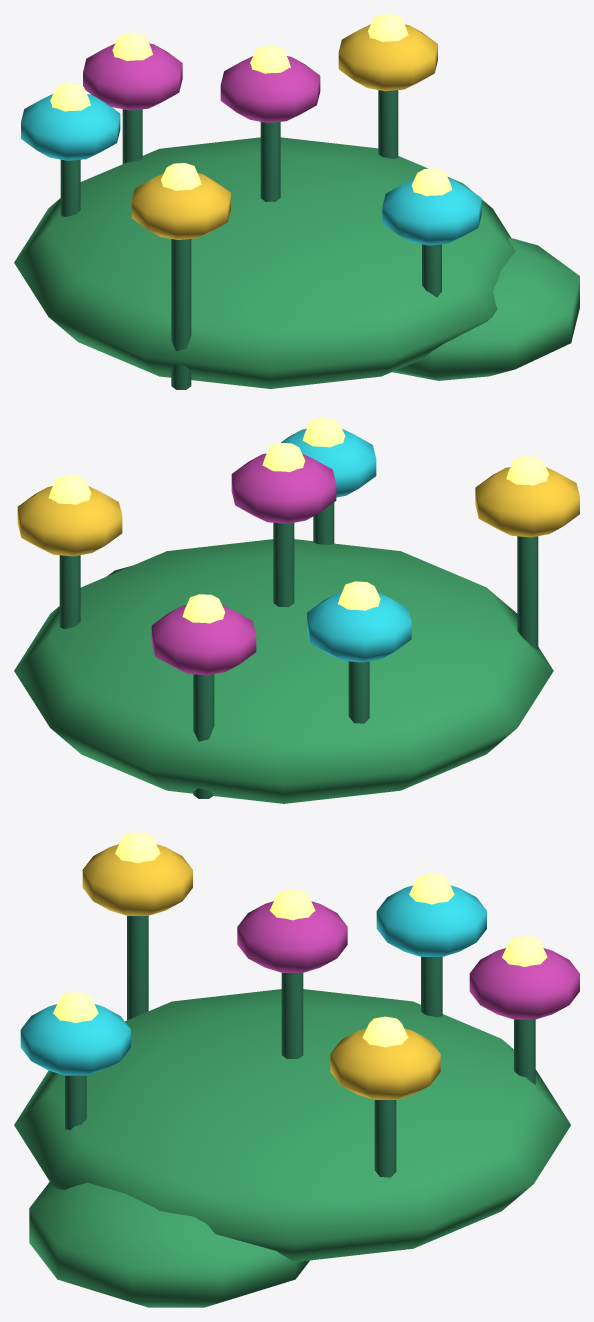
The model's file is flowers.glb.
3 views of the same model, one above another, from view 1: azimuth 30°, elevation 25°; view 2: azimuth 150°, elevation 25°; view 3: azimuth 270°, elevation 25° (orthographic). The views are drawn at different scales.
Parts seen in each view (by area): view 1: Flowers.001; view 2: Flowers.001; view 3: Flowers.001.
Part boxes in pixels (bbox=[...]): Flowers.001: bbox=[14, 14, 579, 389]; Flowers.001: bbox=[14, 418, 579, 803]; Flowers.001: bbox=[14, 832, 579, 1307].
Bounding box in the file's own units: 0.7409 × 0.465 × 0.7313.
